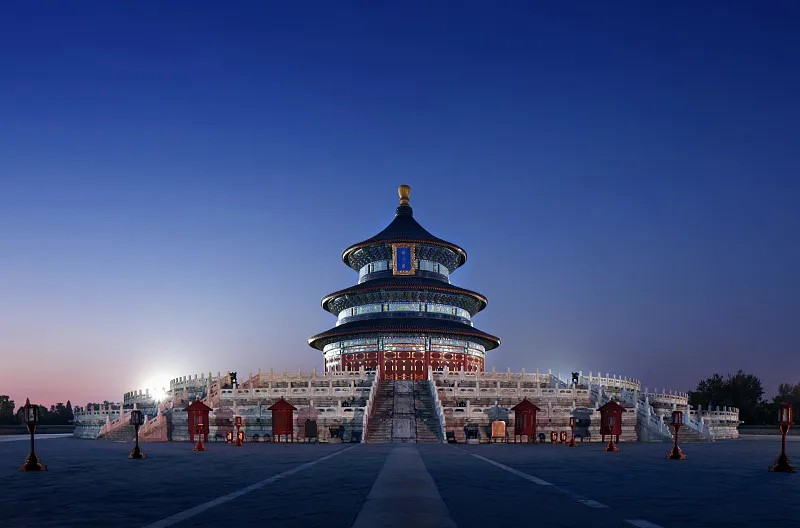Heaven: (307, 185, 502, 379)
